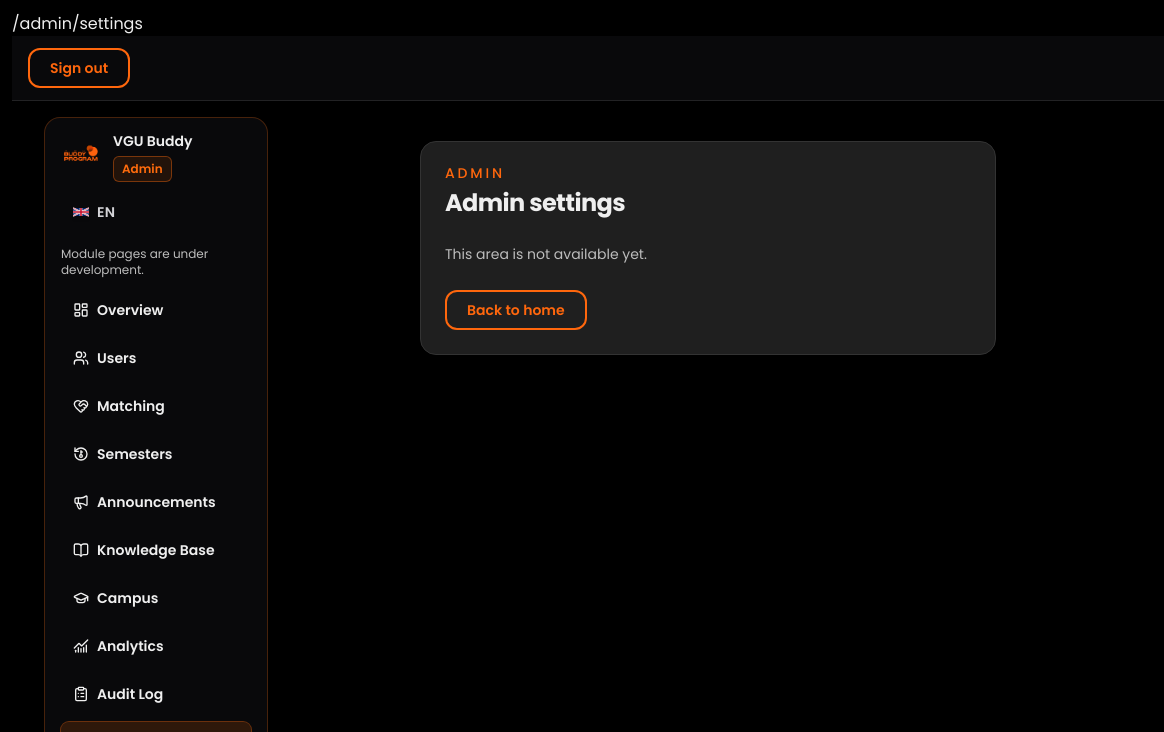
Scenario: ADMIN-002 guarded App navigation › opens the guarded Announcements destination through the actual sidebar
The width and height of the screenshot is (1164, 732).
Click the link "Announcements". click: (144, 502)
box: [73,492,216,512]
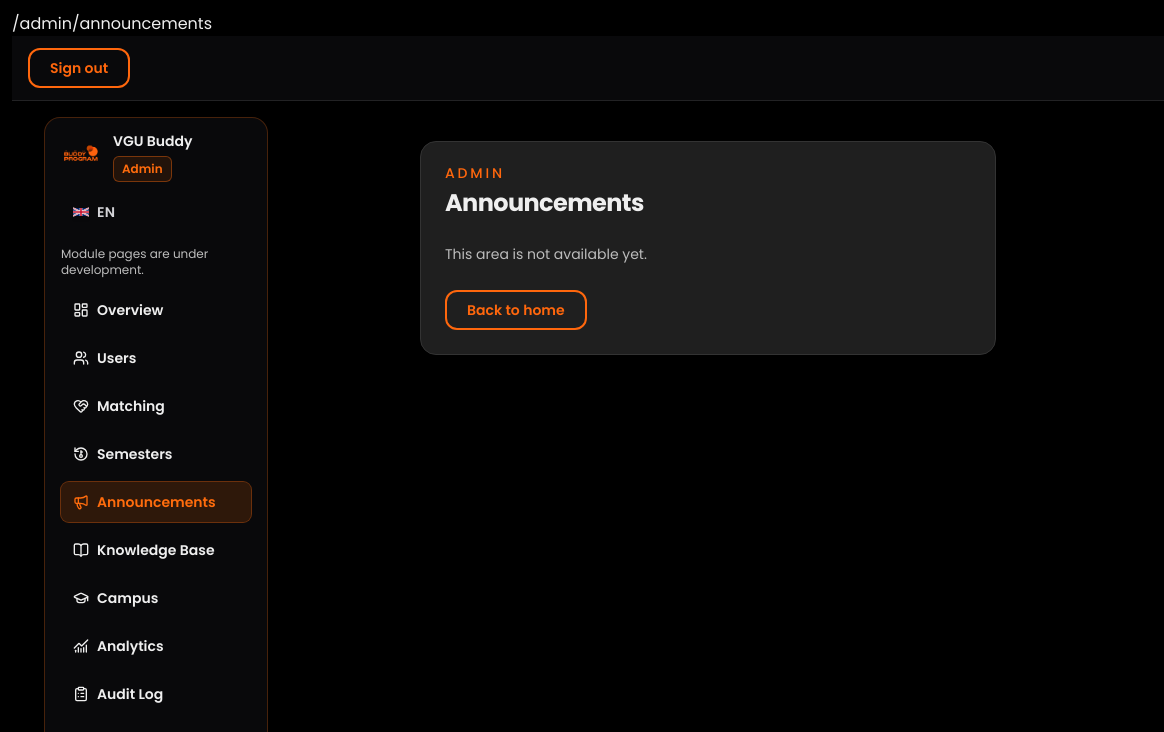
Check: the text with test id "location" reads "/admin/announcements", box [12,12,212,35]
Check: the heading "Announcements" is shown, box [445,186,644,219]
